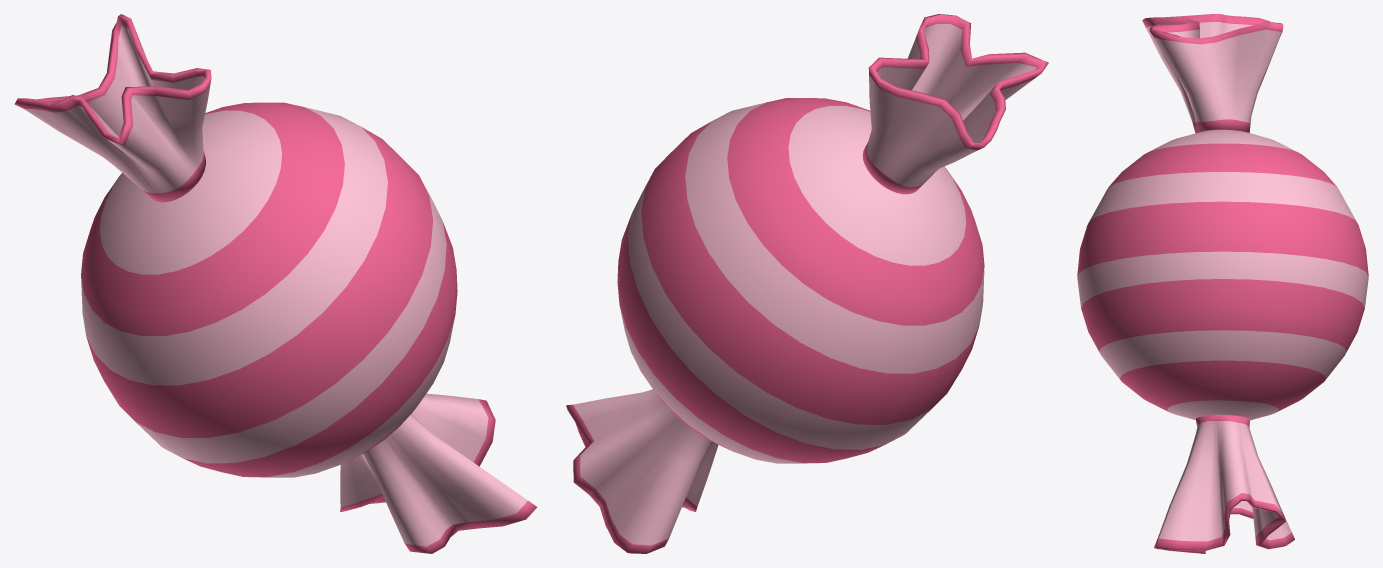
Rendered from candy.glb.
3 renders of one model, left to right at view 1: azimuth 30°, elevation 25°; view 2: azimuth 150°, elevation 25°; view 3: azimuth 270°, elevation 25°, orthographic. The views are drawn at different scales.
Visible parts, largest first — view 1: Sphere.498; view 2: Sphere.498; view 3: Sphere.498.
Boxes of the visible parts, left/top/right/bottom form: Sphere.498: left=14, top=14, right=537, bottom=553; Sphere.498: left=566, top=14, right=1048, bottom=553; Sphere.498: left=1077, top=14, right=1368, bottom=553.
Size of the model in its own units: 2 by 2.35 by 1.44.
1 material, 1 textured.
